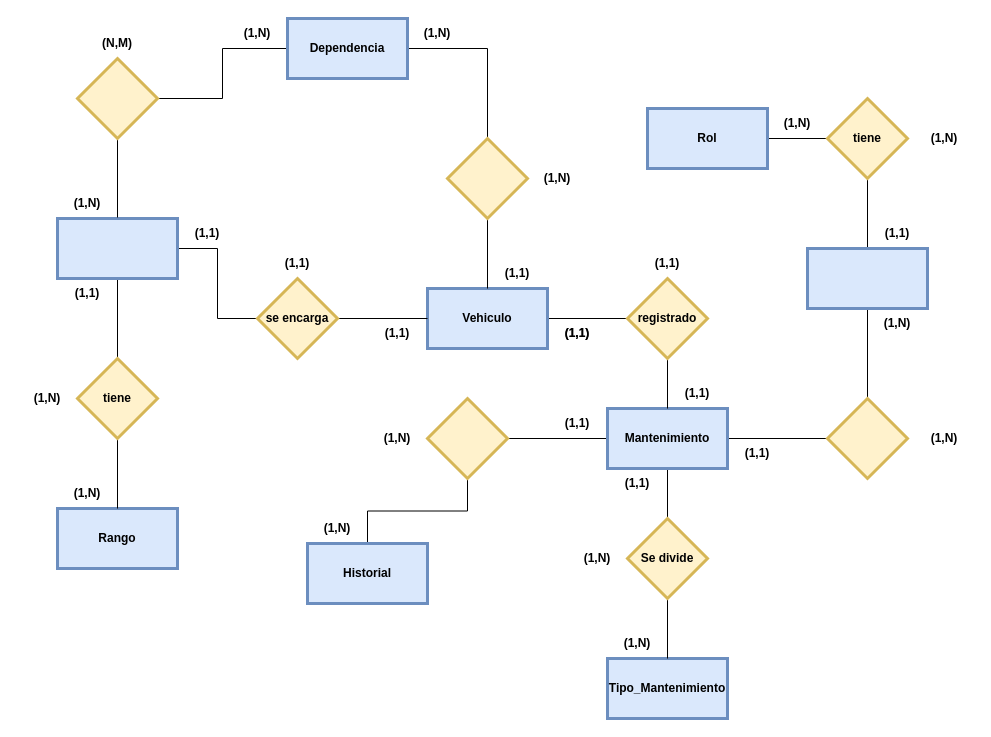
The diagram is 991 pixels wide and 737 high, and some of its shapes have lost their labels. Each missing label, with the centre of its shape:
"es asignada" belongs at point (117, 98).
"es creado" belongs at point (867, 438).
"es guardado" belongs at point (467, 438).
"es vinculado" belongs at point (487, 178).
"Personal" belongs at point (117, 248).
"Usuario" belongs at point (867, 278).
